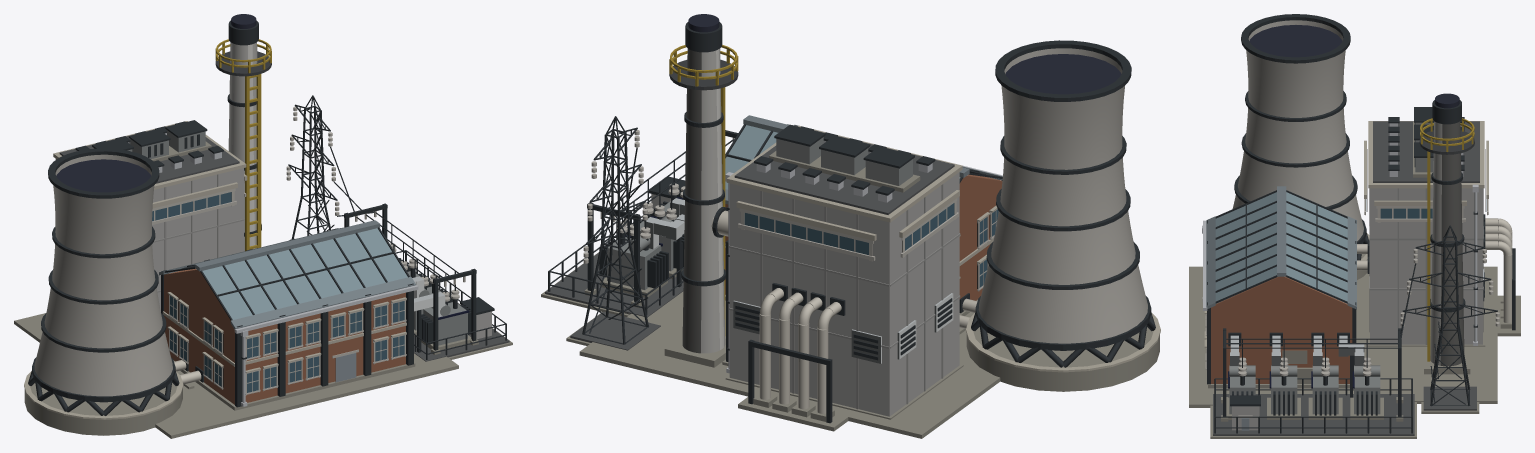
File: power_plant_lvl3.glb
3 views of the same model, side by side, from view 1: azimuth 30°, elevation 25°; view 2: azimuth 150°, elevation 25°; view 3: azimuth 270°, elevation 25° (orthographic). The views are drawn at different scales.
Parts seen in each view (by area): view 1: power_plant_v2, power_plant_v2_Glass; view 2: power_plant_v2, power_plant_v2_Glass; view 3: power_plant_v2, power_plant_v2_Glass.
Boxes of the visible parts, box(x1,y1,x2,y2) form: power_plant_v2: box(14, 14, 512, 438); power_plant_v2_Glass: box(152, 192, 407, 392); power_plant_v2: box(541, 14, 1160, 438); power_plant_v2_Glass: box(725, 125, 1002, 287); power_plant_v2: box(1189, 14, 1520, 438); power_plant_v2_Glass: box(1215, 192, 1486, 303).
Size of the model in its own units: 1 by 0.6017 by 0.6727.
